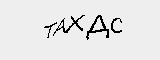А: (34, 26, 51, 44)
Б: (108, 29, 130, 48)
Н: (19, 21, 33, 39)
П: (51, 31, 71, 48)
С: (131, 26, 148, 44)
Ң: (75, 28, 104, 54)
